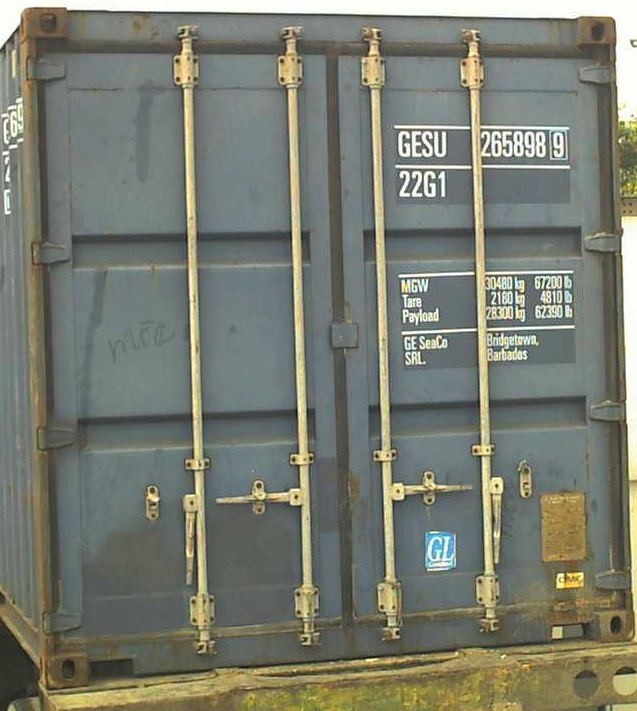container_door: (22, 5, 620, 695)
